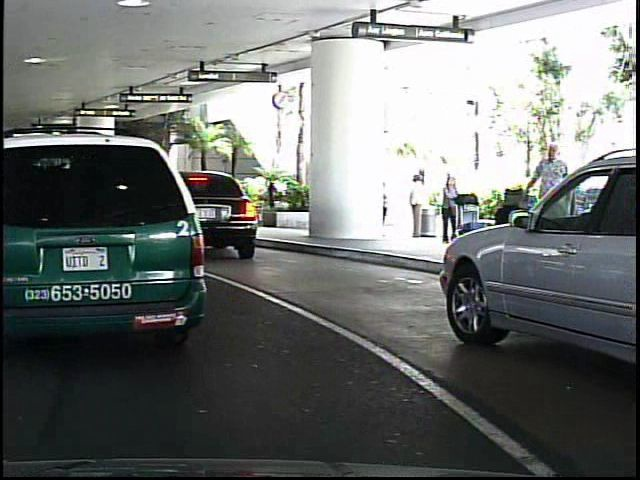person: (520, 134, 576, 278), (432, 171, 462, 245)
